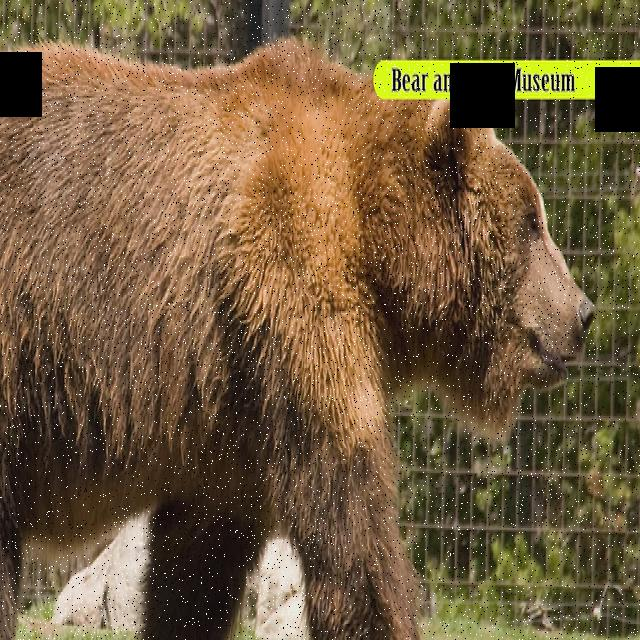Bear: (0, 28, 600, 640)
